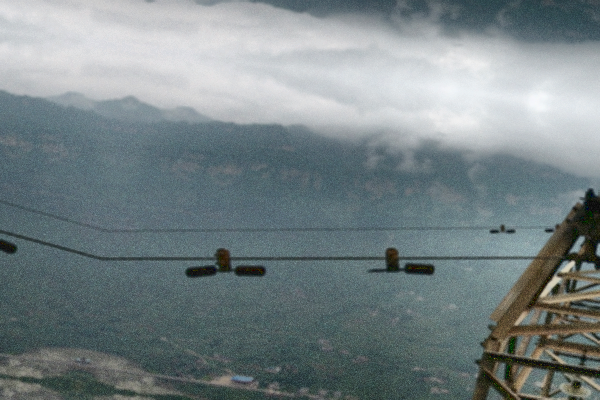damper: (182, 244, 268, 280), (486, 223, 516, 235)
damper_defect: (364, 245, 435, 277)
